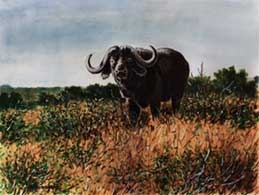buffalo: (86, 44, 190, 127)
